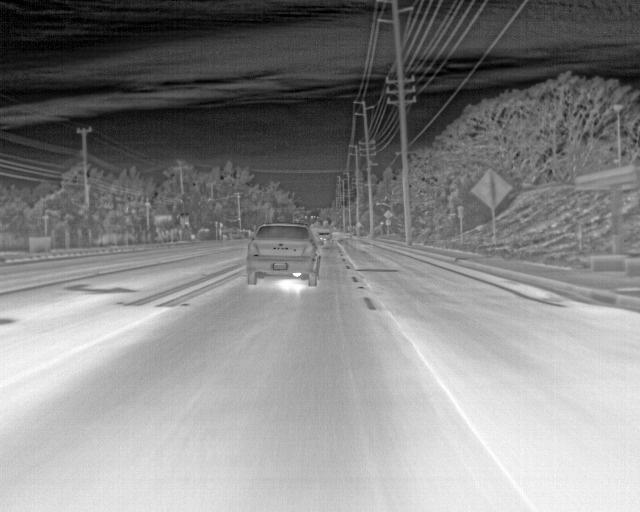car: (245, 221, 319, 287), (317, 228, 332, 247)
